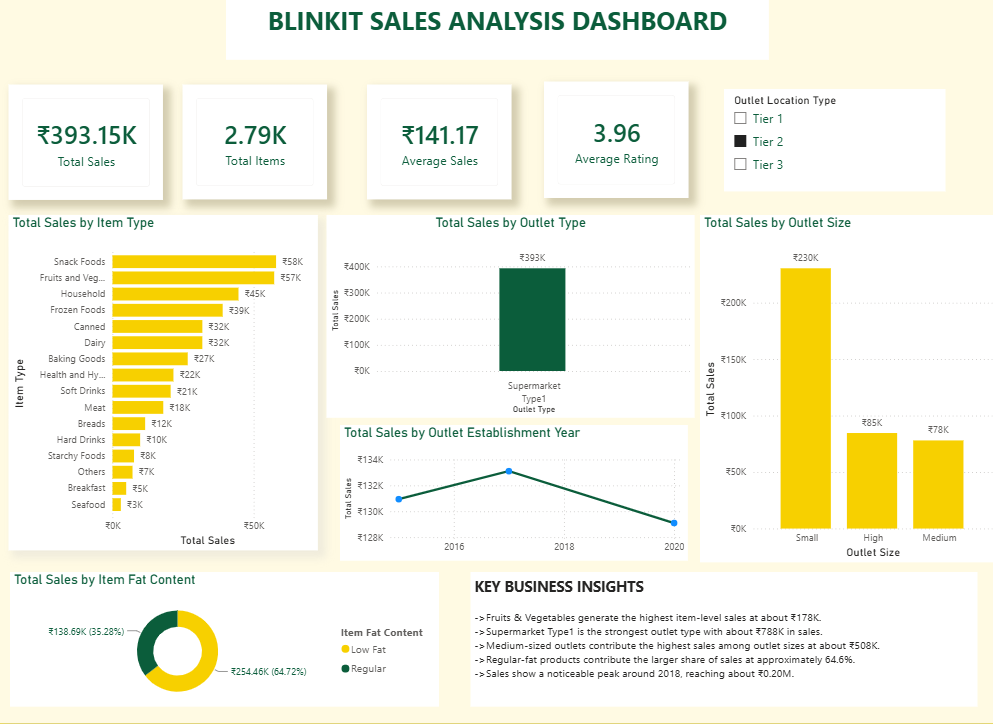

This screenshot's page, from the dashboard's own definition file:
{"tool":"powerbi","page":{"name":"Page 1","canvas":[1280,930],"ordinal":0},"visuals":[{"type":"cardVisual","fields":{"Data":["blinkit_cleaned.Total Sales"]},"box":[13.5,109.6,198.1,148.1],"z":0},{"type":"cardVisual","fields":{"Data":["blinkit_cleaned.Average Sales"]},"box":[472.5,108.8,185.2,147.4],"z":1},{"type":"cardVisual","fields":{"Data":["blinkit_cleaned.Average Rating"]},"box":[700,106.2,185.2,149.3],"z":2},{"type":"cardVisual","fields":{"Data":["blinkit_cleaned.Total Items"]},"box":[236.2,108.8,185.2,147.4],"z":3},{"type":"textbox","box":[292,0,696,78],"z":4},{"type":"clusteredBarChart","title":"Total Sales by Item Type","fields":{"Category":["blinkit_cleaned.Item Type"],"Y":["blinkit_cleaned.Total Sales"]},"box":[14,276,396.7,430],"z":5},{"type":"clusteredColumnChart","fields":{"Y":["blinkit_cleaned.Total Sales"],"Category":["blinkit_cleaned.Outlet Type"]},"box":[421.2,276.2,472,260],"z":6},{"type":"clusteredColumnChart","fields":{"Category":["blinkit_cleaned.Outlet Size"],"Y":["blinkit_cleaned.Total Sales"]},"box":[900,277.5,380,445],"z":7},{"type":"donutChart","fields":{"Category":["blinkit_cleaned.Item Fat Content"],"Y":["blinkit_cleaned.Total Sales"]},"box":[15,735,550,172.5],"z":8},{"type":"lineChart","fields":{"Category":["blinkit_cleaned.Outlet Establishment Year"],"Y":["blinkit_cleaned.Total Sales"]},"box":[438.8,546.2,446,174],"z":9},{"type":"slicer","fields":{"Values":["blinkit_cleaned.Outlet Location Type"]},"box":[931.2,116.2,283.8,131.2],"z":10},{"type":"textbox","box":[605,735,650,172.5],"z":11}]}

Visuals, with their boxes in screenshot pixels (x1, y1, x2, y2), scaled from the page's 1280x930 canvas onto the 993x724 screenshot:
cardVisual - blinkit_cleaned.Total Sales: l=10, t=85, r=164, b=201
cardVisual - blinkit_cleaned.Average Sales: l=367, t=85, r=510, b=199
cardVisual - blinkit_cleaned.Average Rating: l=543, t=83, r=687, b=199
cardVisual - blinkit_cleaned.Total Items: l=183, t=85, r=327, b=199
textbox: l=227, t=0, r=766, b=61
"Total Sales by Item Type" clusteredBarChart: l=11, t=215, r=319, b=550
clusteredColumnChart - blinkit_cleaned.Total Sales x blinkit_cleaned.Outlet Type: l=327, t=215, r=693, b=417
clusteredColumnChart - blinkit_cleaned.Outlet Size x blinkit_cleaned.Total Sales: l=698, t=216, r=992, b=562
donutChart - blinkit_cleaned.Item Fat Content x blinkit_cleaned.Total Sales: l=12, t=572, r=438, b=706
lineChart - blinkit_cleaned.Outlet Establishment Year x blinkit_cleaned.Total Sales: l=340, t=425, r=686, b=561
slicer - blinkit_cleaned.Outlet Location Type: l=722, t=90, r=943, b=193
textbox: l=469, t=572, r=974, b=706
